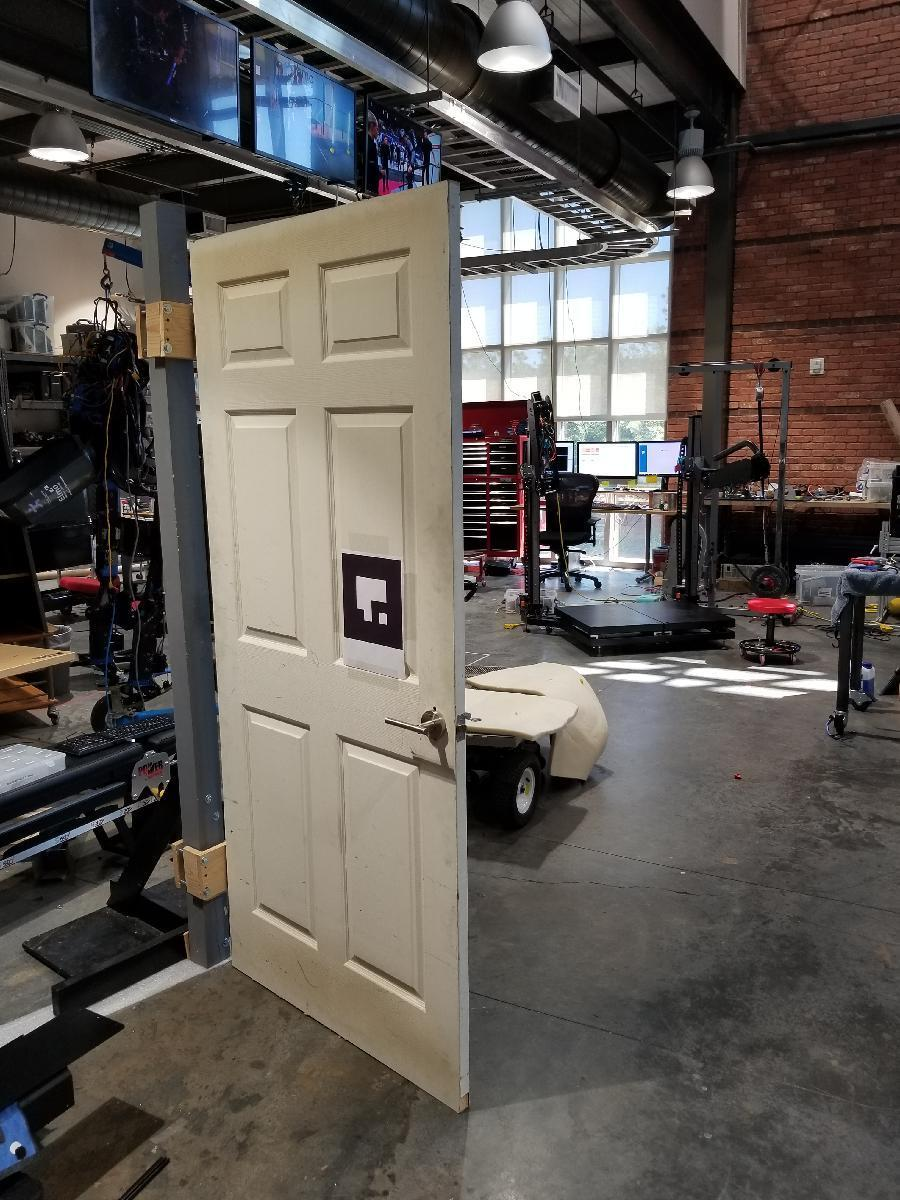door: (188, 223, 471, 1073)
handle: (384, 706, 450, 746)
